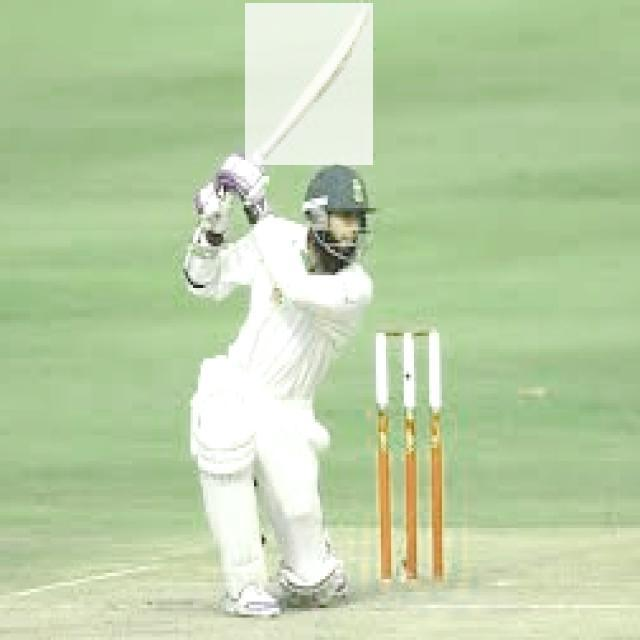bat: (246, 1, 374, 165)
toe: (357, 0, 374, 24)
